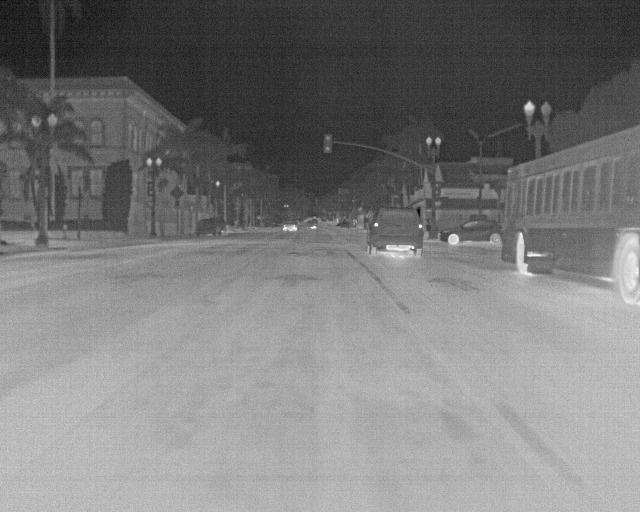car: (367, 206, 426, 258), (438, 219, 502, 248), (196, 218, 227, 236), (282, 219, 297, 233), (306, 218, 321, 231)
